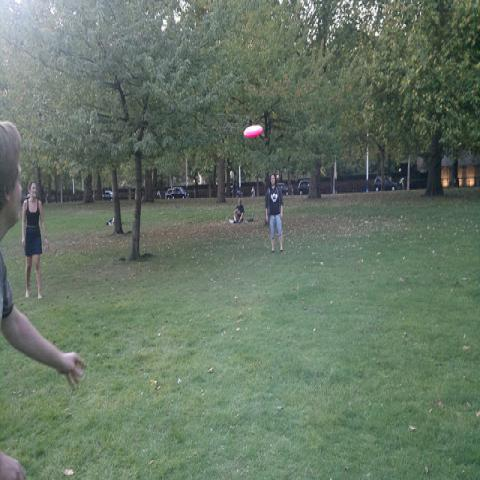car: (373, 176, 398, 192), (224, 183, 242, 198), (170, 187, 187, 201), (297, 180, 310, 196), (278, 182, 288, 194), (105, 190, 113, 200), (166, 189, 173, 200)
